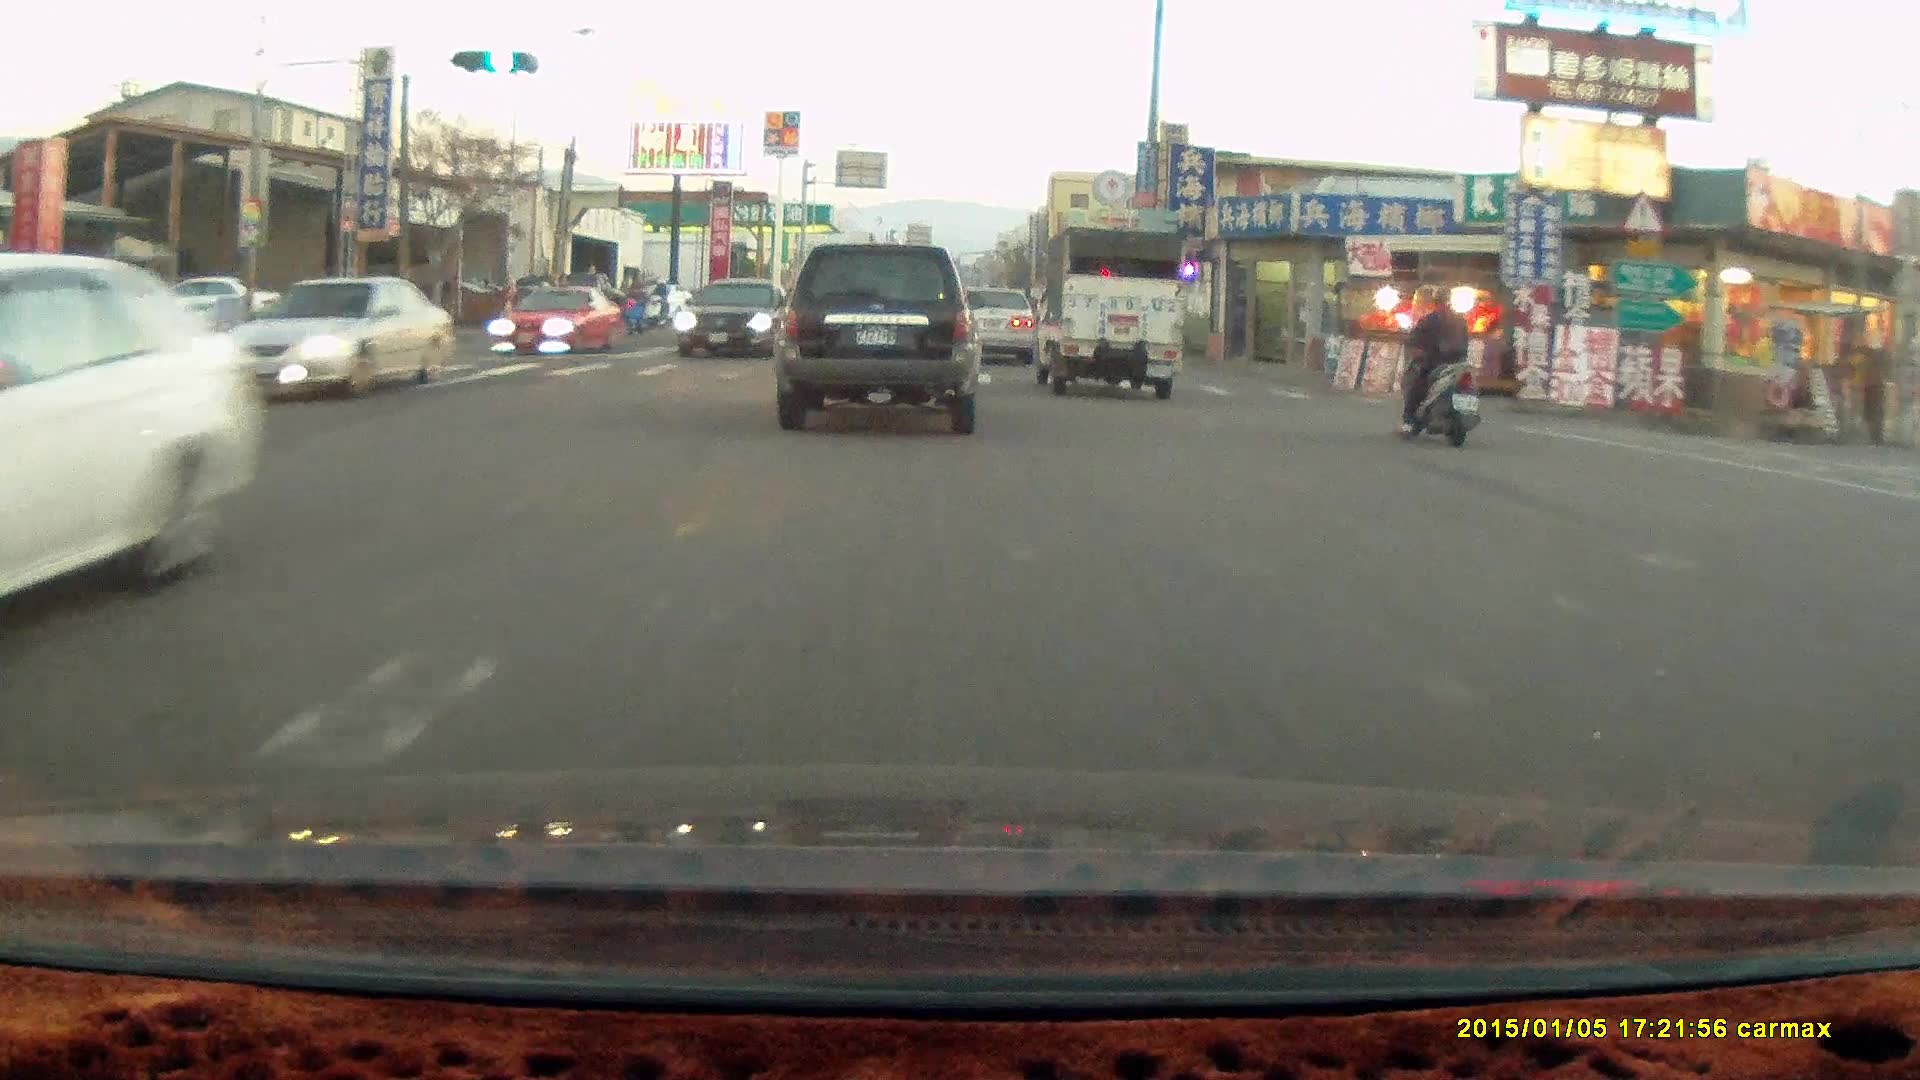rider: (1392, 282, 1480, 444), (617, 285, 652, 338), (639, 281, 673, 334)
vehicle: (1, 251, 266, 635), (773, 244, 986, 434), (195, 275, 463, 408), (1026, 225, 1181, 398), (676, 278, 808, 364), (114, 280, 277, 337), (499, 286, 620, 361), (947, 285, 1037, 366), (954, 287, 1039, 366)
